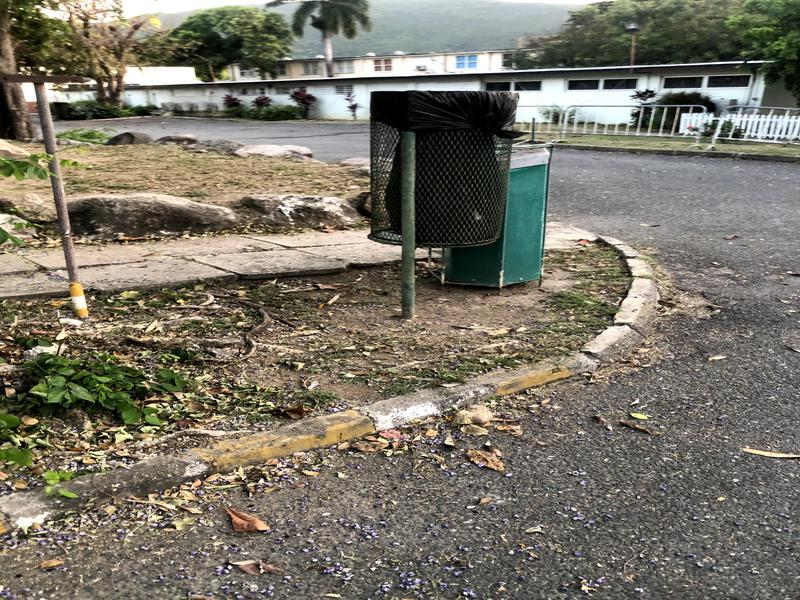18.0053245_-76.7486424_recyclebin: (431, 143, 561, 306)
